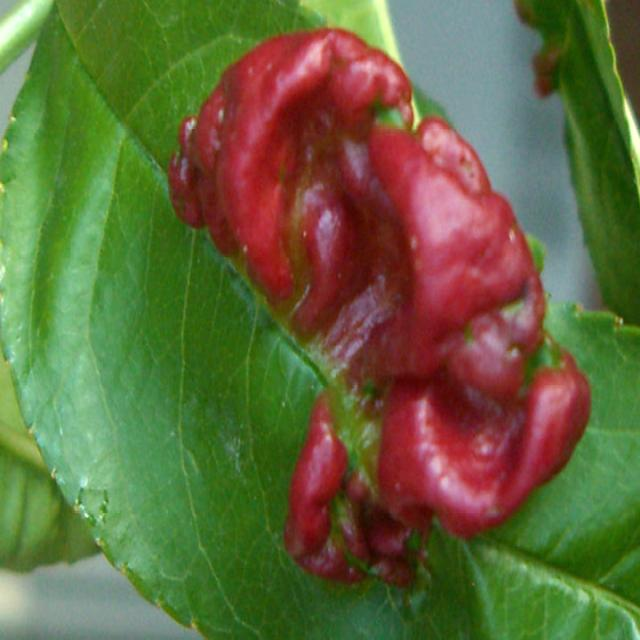peach_leaf_curl: (165, 23, 592, 589)
